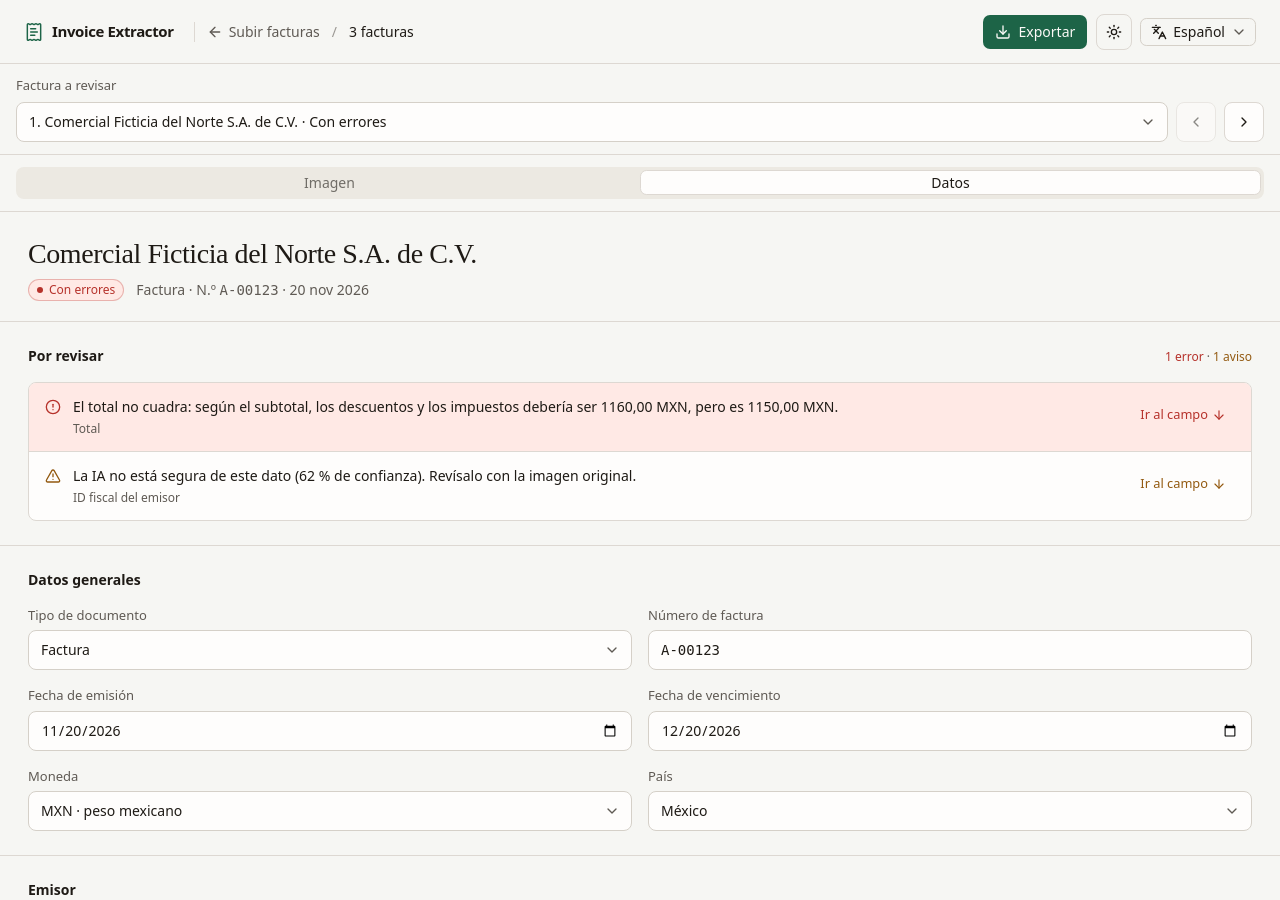
Scenario: ReviewPage › mobile › picks the invoice from a list
The width and height of the screenshot is (1280, 900).
Select "3. Sample Hardware Co. · Con advertencias" in the dropdown labelled "Factura a revisar" at (592, 122), box [16,102,1168,142]
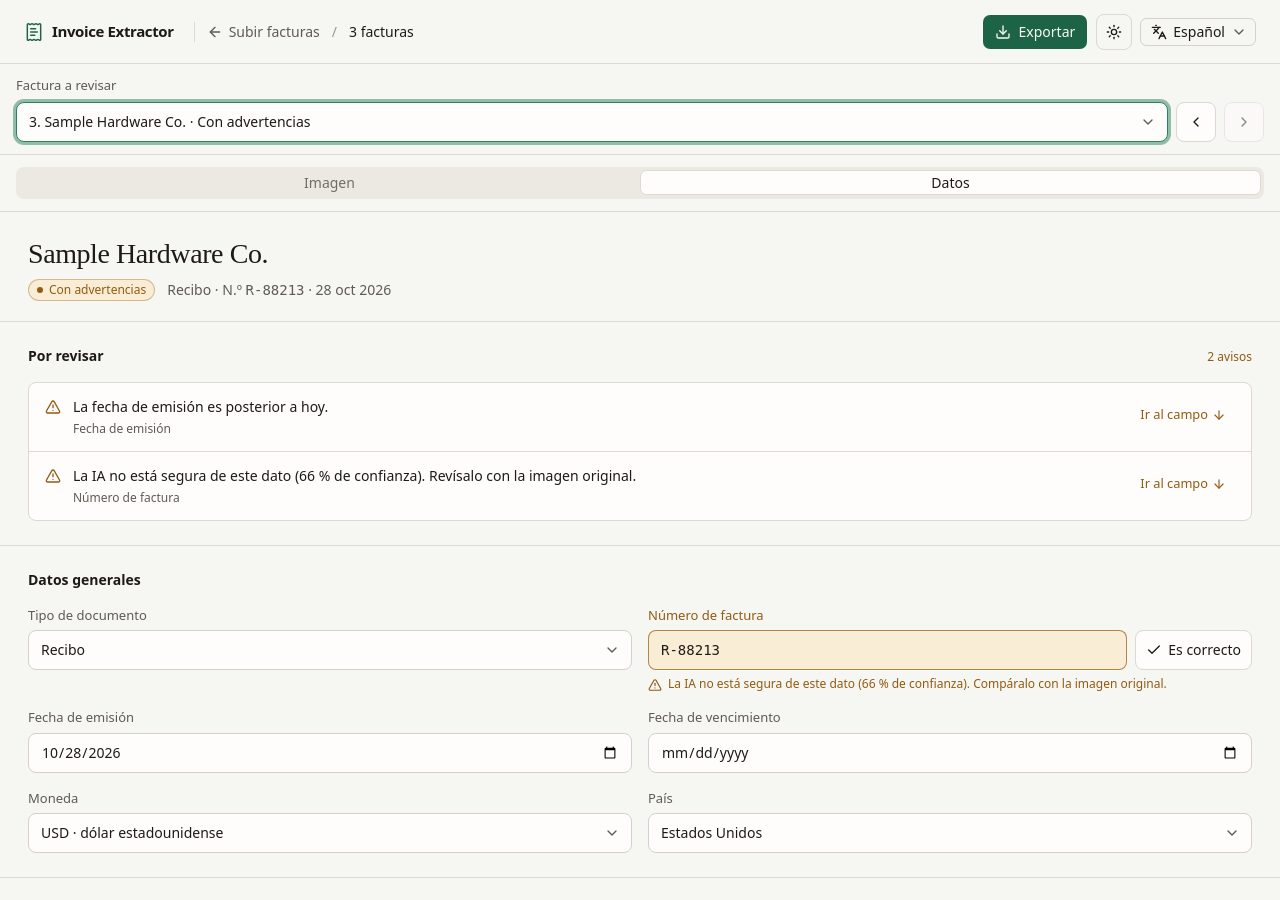
Expected: the heading "Sample Hardware Co." is shown, [28,236,268,270]
Click the button named "Factura anterior" at (1196, 122), box [1176,102,1216,142]
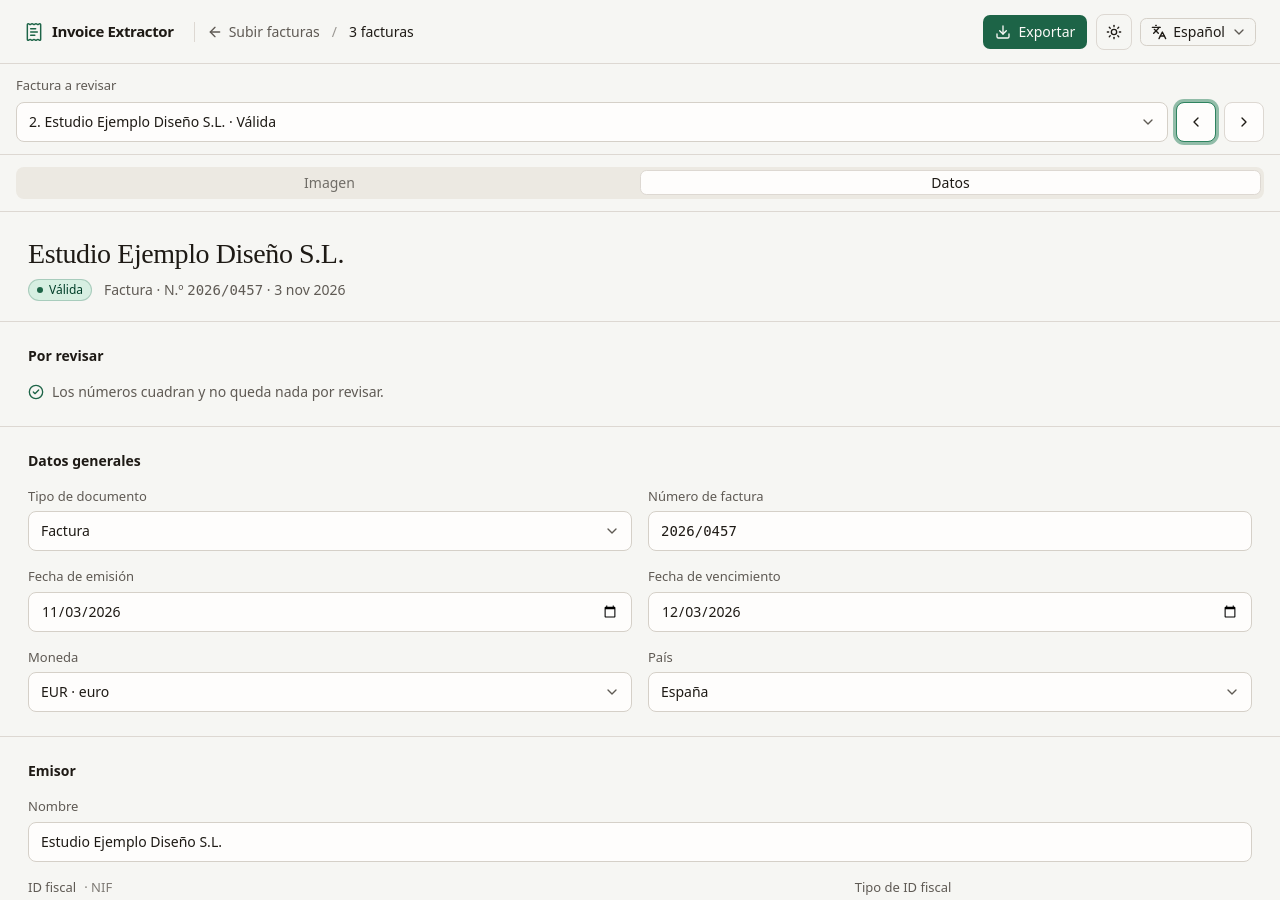
Expected: the heading "Estudio Ejemplo Diseño S.L." is shown, [28,236,344,270]
